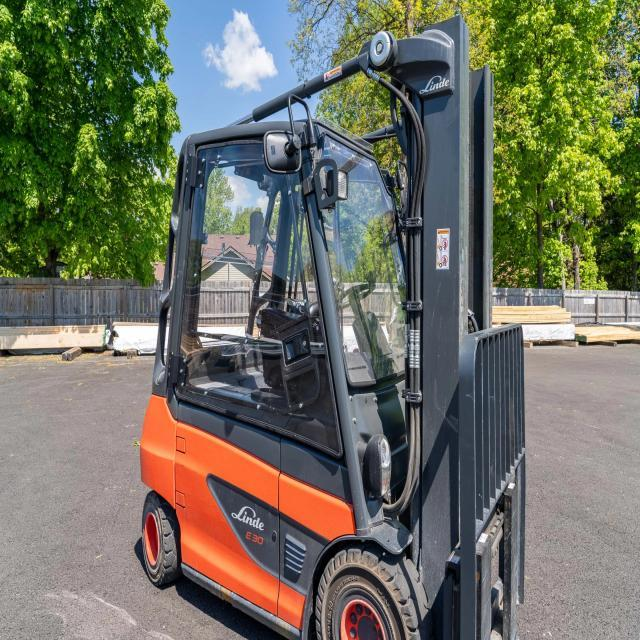forklift: (129, 9, 534, 640)
